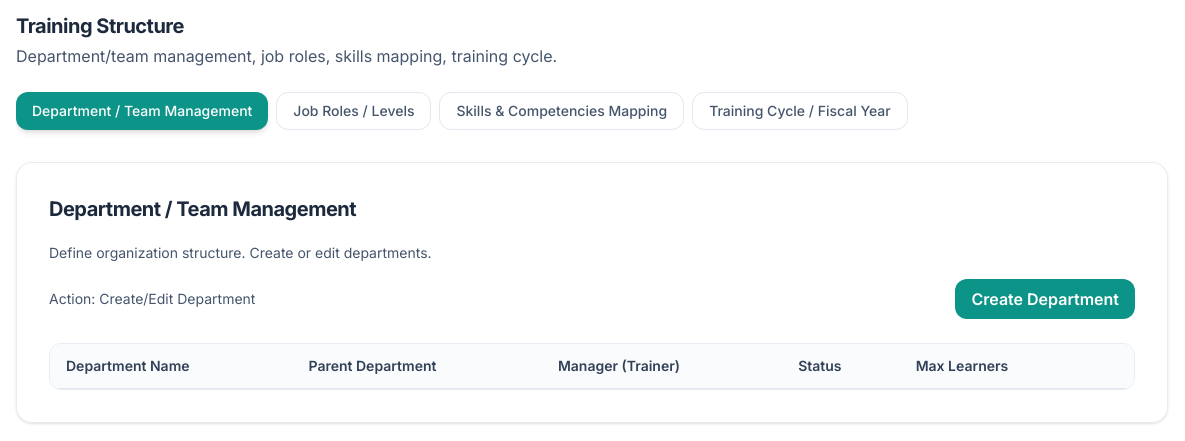
Scenario: AcademicSetup – tab switching › returns to Departments tab when re-clicked
Click the button "Job Roles / Levels": (354, 111) [276,92,431,130]
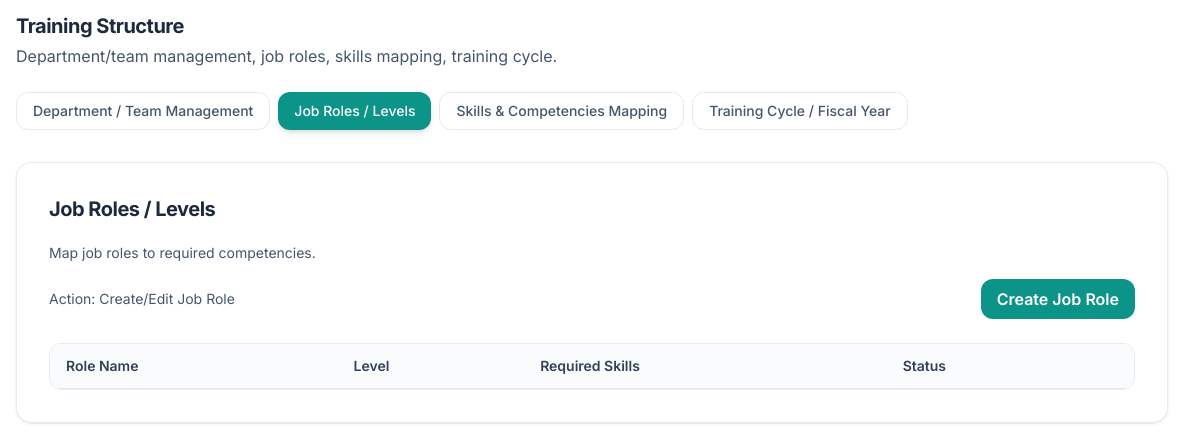
Click the button "Department / Team Management": (143, 111) [16,92,270,130]
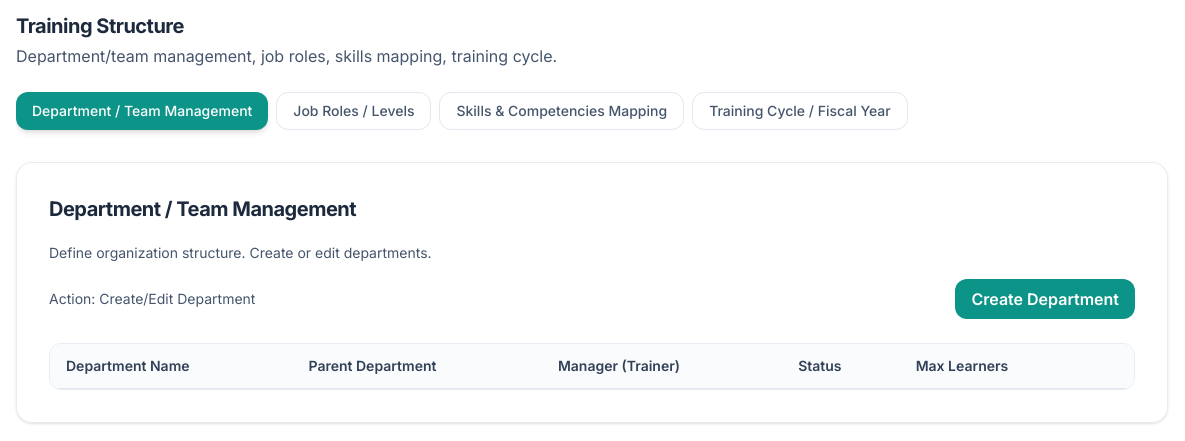
Now the button "Create Department" is shown, box [956,279,1135,319]
